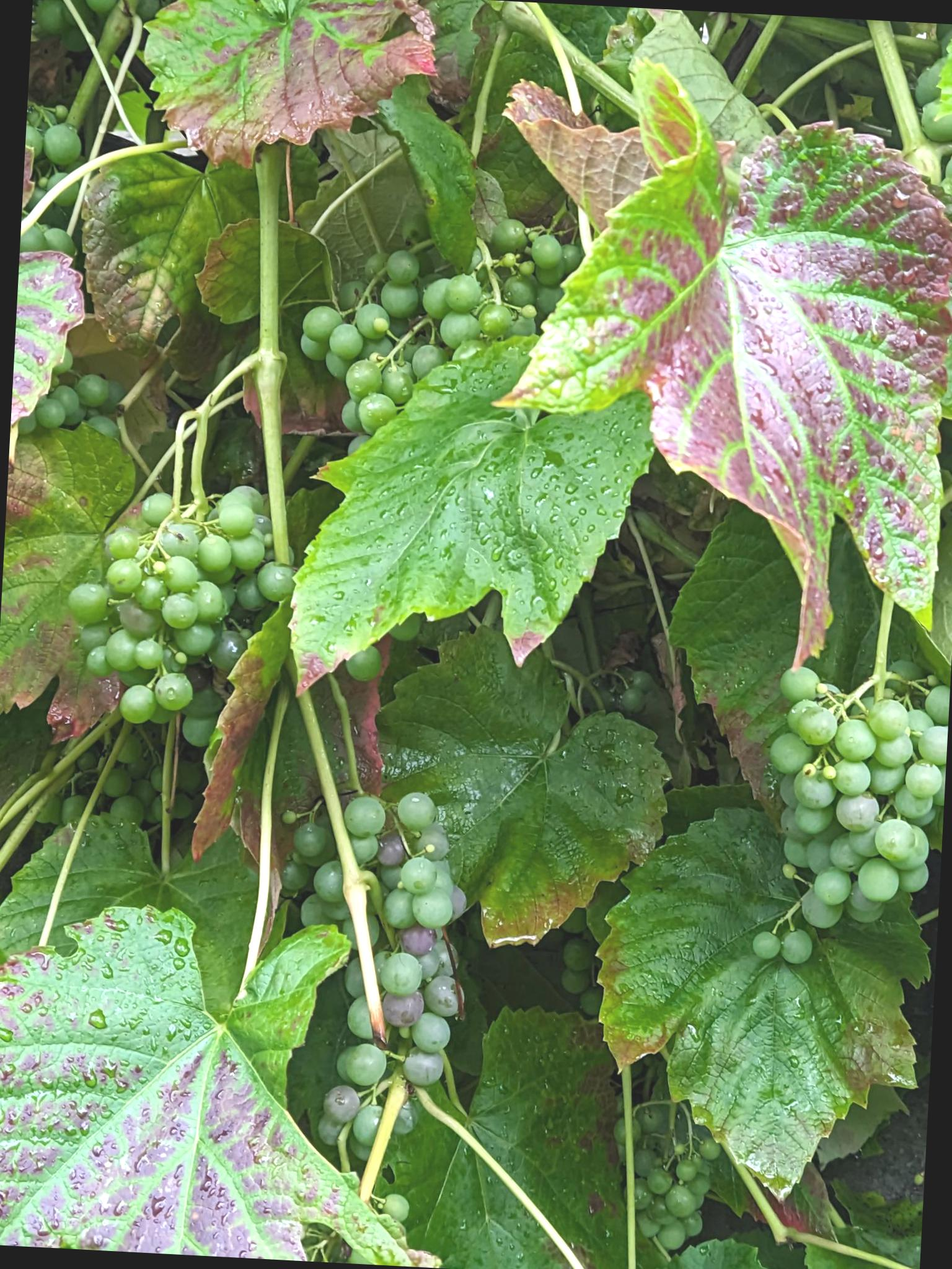Grape Unripe: (265, 785, 480, 1162), (290, 206, 584, 471), (57, 474, 299, 751), (750, 653, 951, 976), (605, 1102, 724, 1254), (18, 343, 125, 451), (19, 104, 86, 259), (30, 0, 170, 59), (911, 22, 952, 211), (558, 907, 609, 1015), (588, 669, 652, 717)
